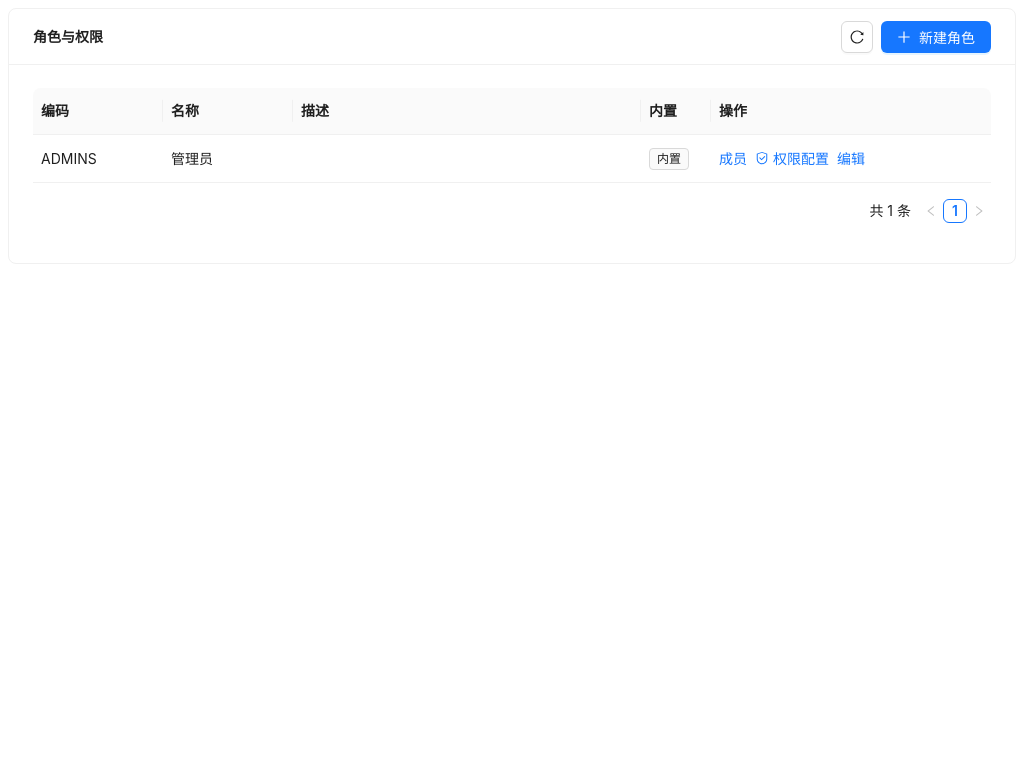
Test: RoleAdminPage › 成员弹窗：打开加载成员与候选用户（搜索式选择就绪）
Click the link "成员".
click(733, 158)  # box [719,150,747,166]
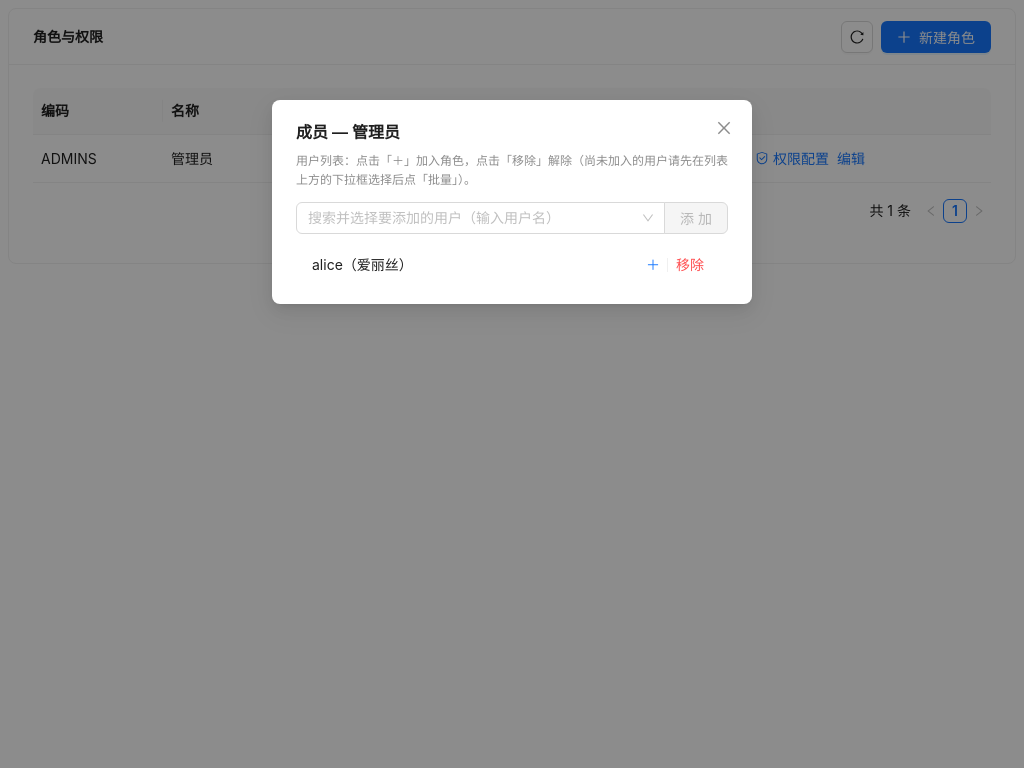
Result: the list item "alice（爱丽丝） ＋ 移除" is shown at [312,256,704,273]
